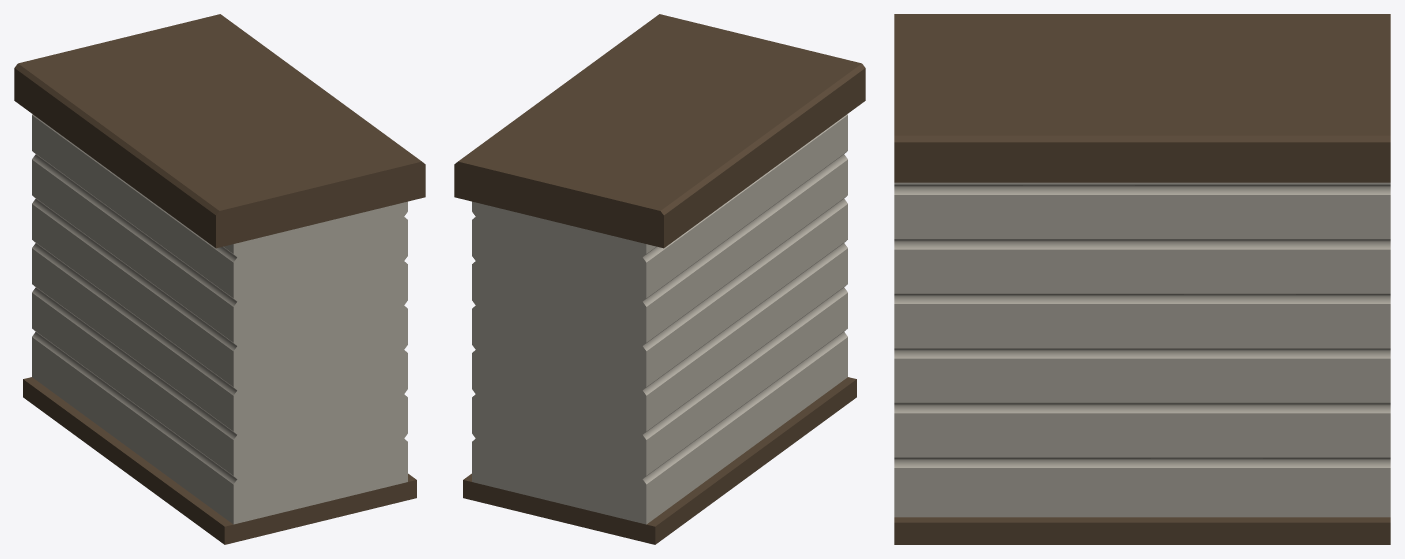
Rendered from SM_Counter_03.glb.
3 views of the same model, side by side, from view 1: azimuth 30°, elevation 25°; view 2: azimuth 150°, elevation 25°; view 3: azimuth 270°, elevation 25° (orthographic). The views are drawn at different scales.
Visible parts, largest first — view 1: SM_Counter_03; view 2: SM_Counter_03; view 3: SM_Counter_03.
Part boxes in pixels (x1,y1,x2,y2): SM_Counter_03: [14, 14, 425, 544]; SM_Counter_03: [454, 14, 865, 544]; SM_Counter_03: [894, 14, 1390, 544].
Size of the model in its own units: 0.6 by 0.9174 by 1.
Materials: 1 (1 with a texture image).
